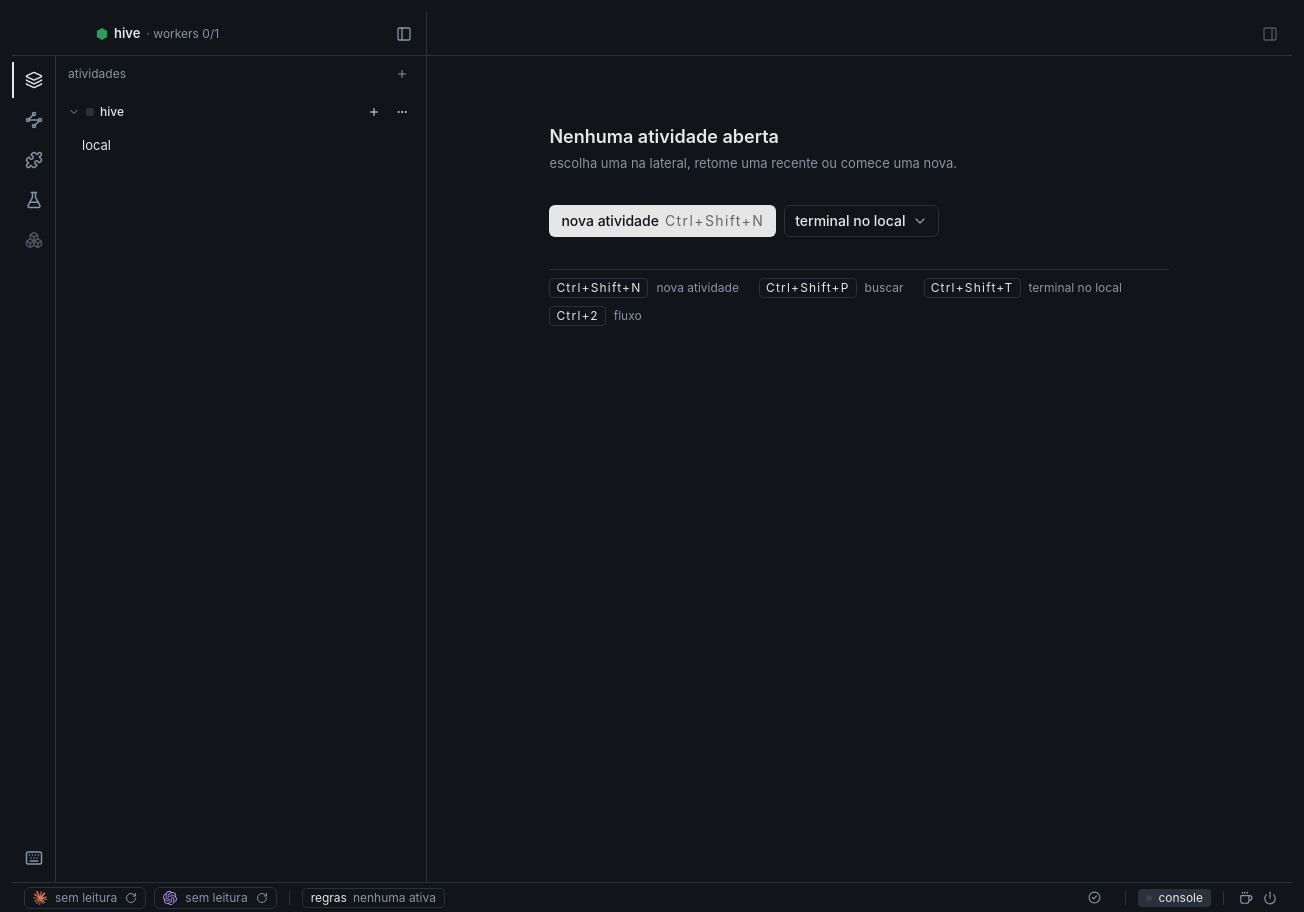
an issue opened from the GitHub Project table goes back to the flow, not the table, by ⌘[ too (#380)
Click the button named "fluxo".
click(34, 120)  # box 12,102 -> 56,138
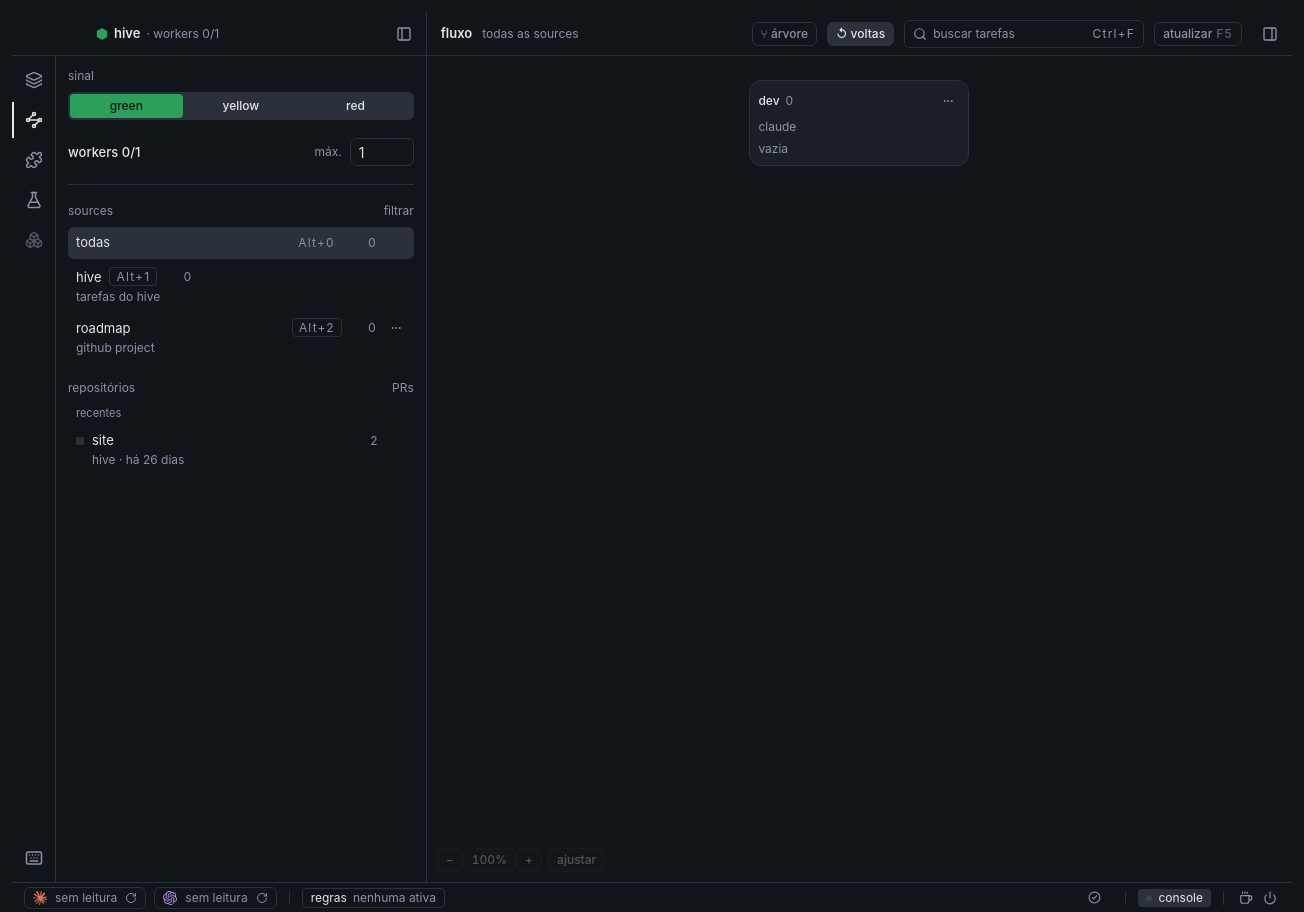
Now the button "site 2 hive · há 26 dias" is shown, box 68,425 -> 414,474
Click the button "roadmap Alt+2 0 github project".
click(103, 328)  # box 68,313 -> 414,362
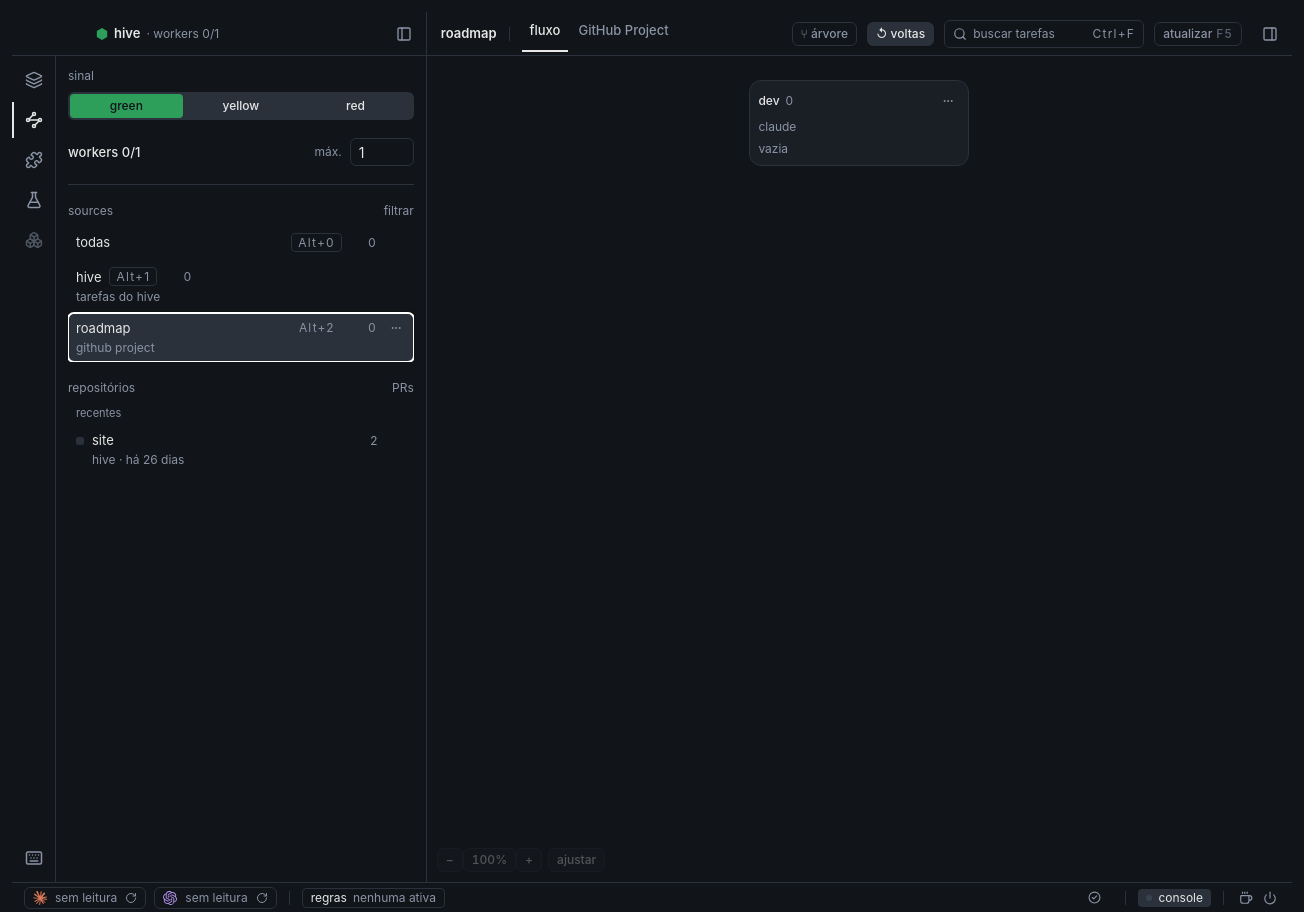
Click the tab "GitHub Project".
click(624, 32)  # box 570,12 -> 677,52
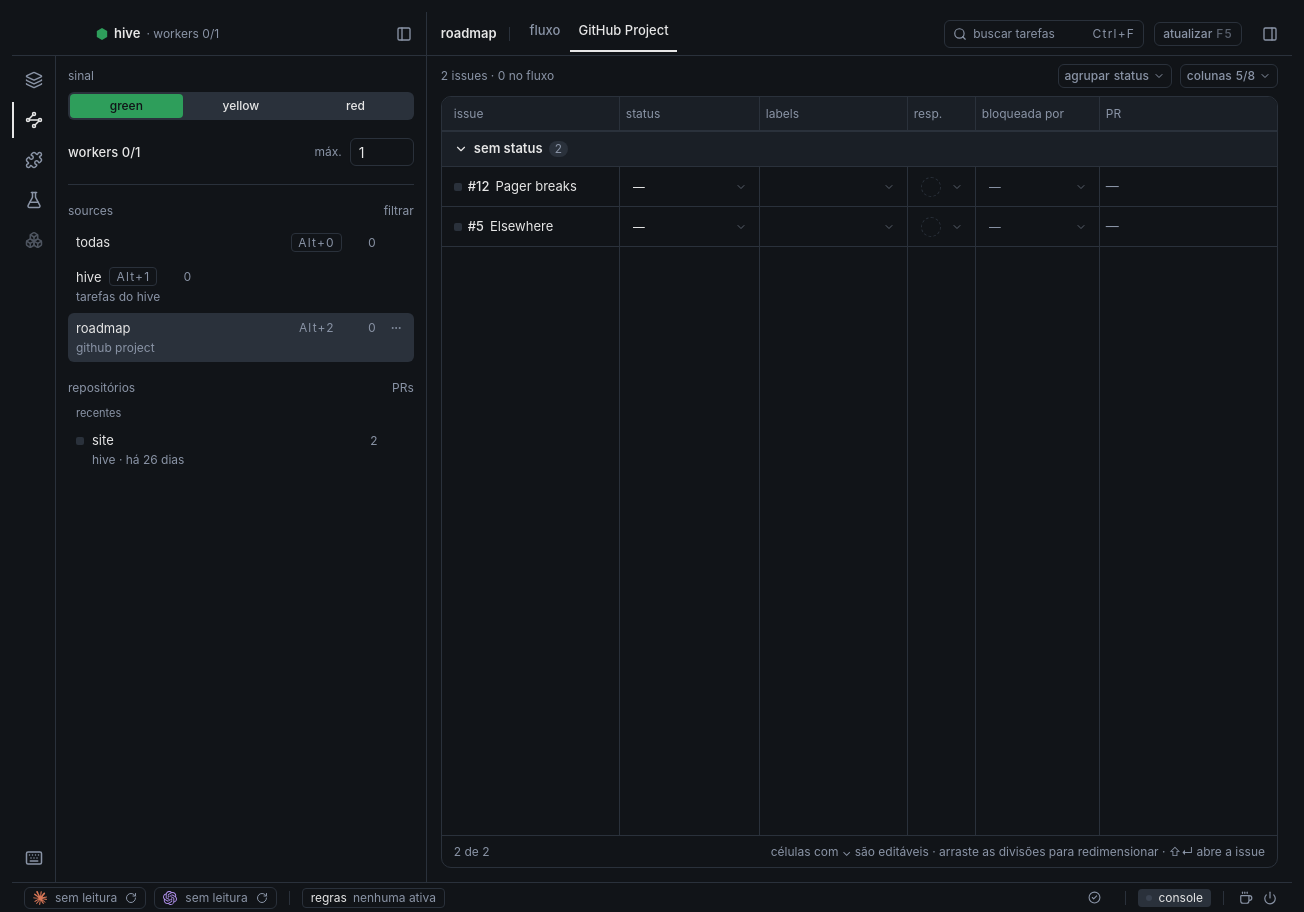
Click the text "Pager breaks".
click(536, 186)  # box 496,177 -> 577,196
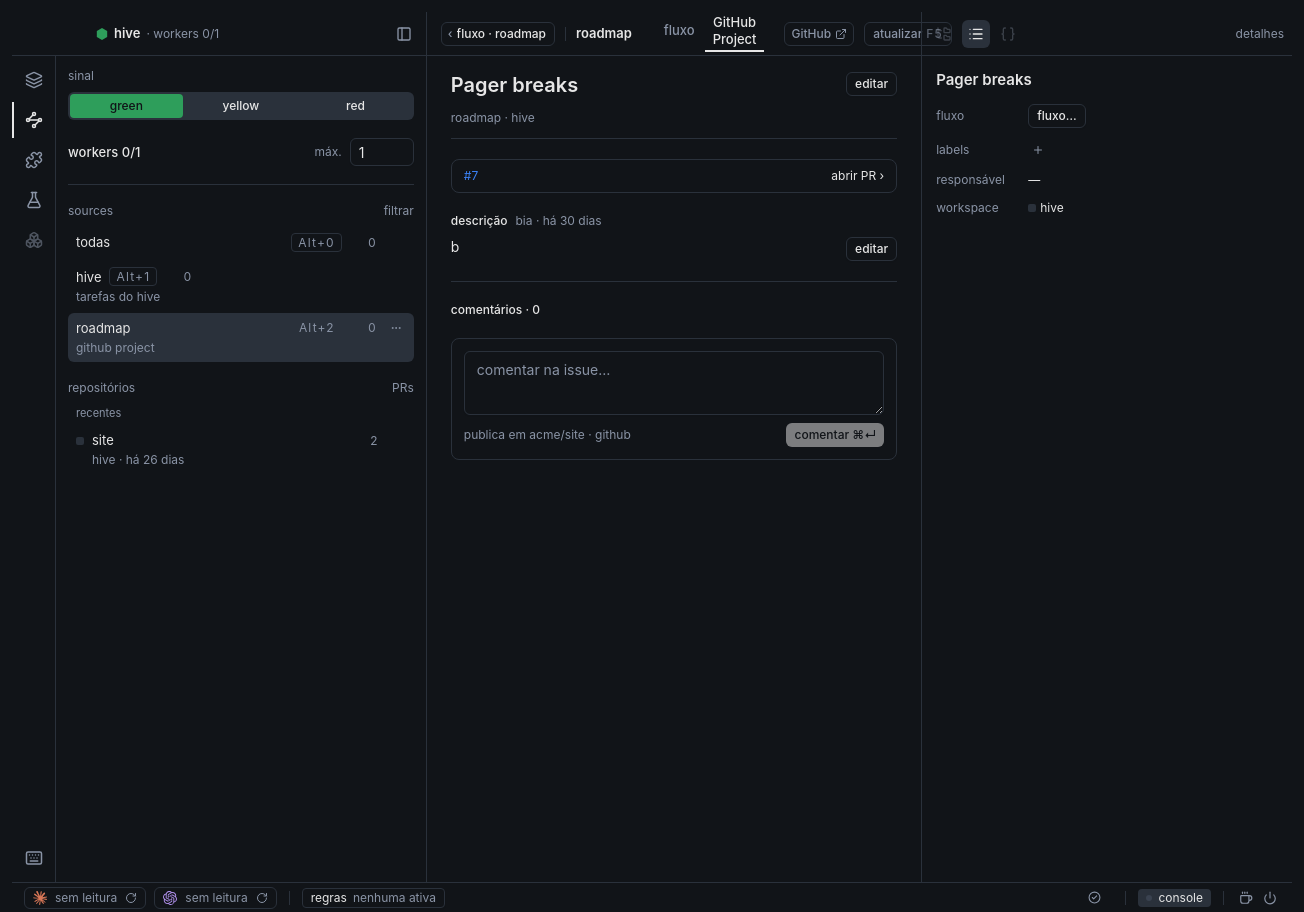
Now the 1st heading "Pager breaks" is shown, box 451,73 -> 578,97
Now the button "‹ fluxo · roadmap" is shown, box 441,22 -> 555,46
Press ArrowLeft
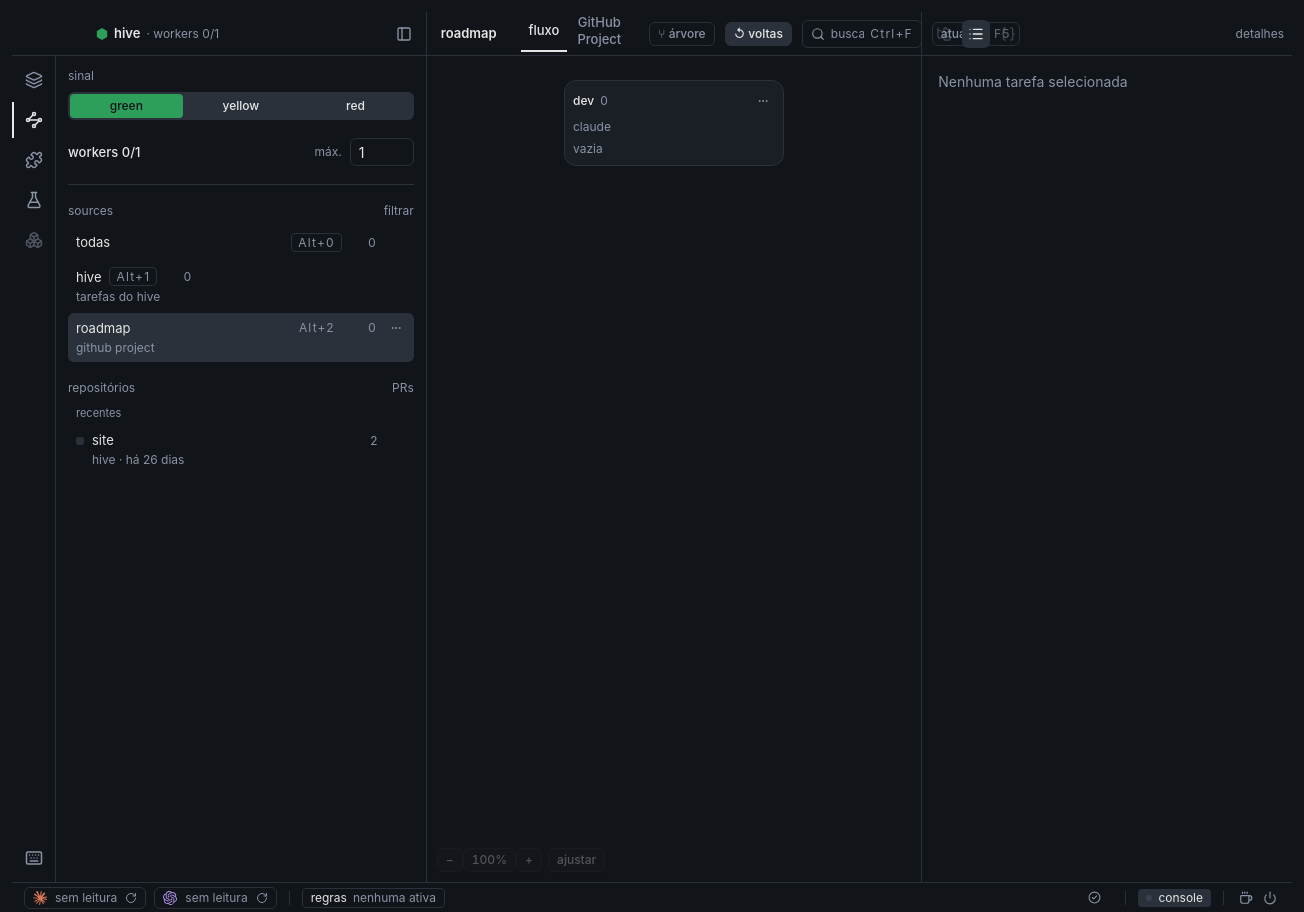
Expected: the text "2 issues · 0 no fluxo" is not shown
Now the heading "Pager breaks" is gone
